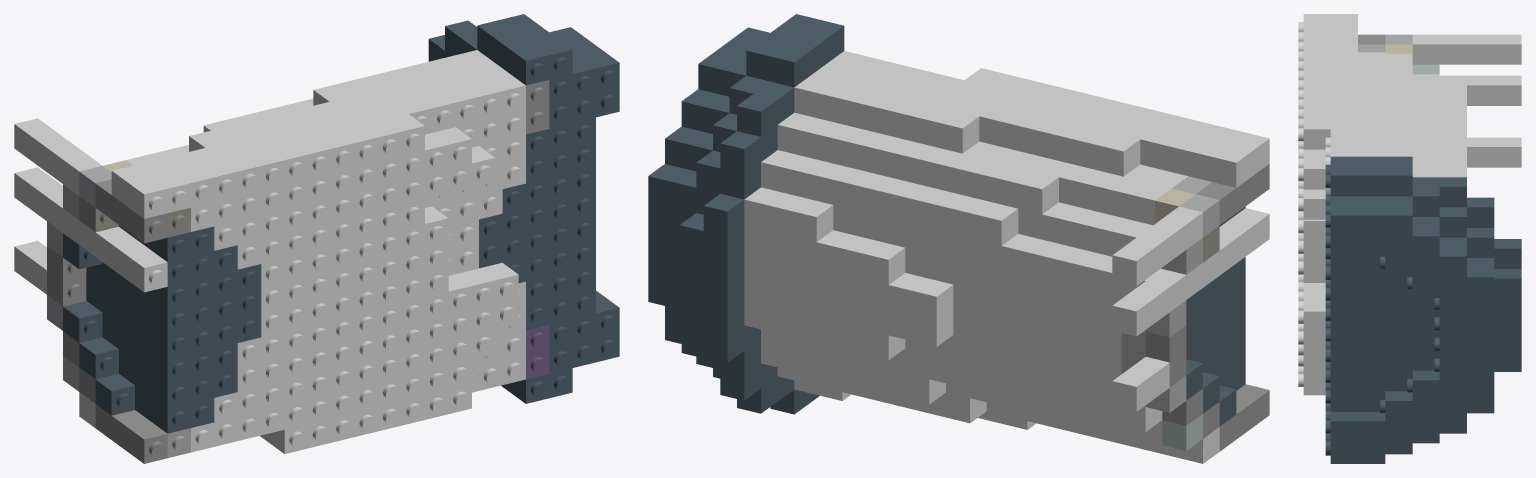
The model's file is full.glb.
3 views of the same model, side by side, from view 1: azimuth 30°, elevation 25°; view 2: azimuth 150°, elevation 25°; view 3: azimuth 270°, elevation 25° (orthographic). The views are drawn at different scales.
Parts seen in each view (by area): view 1: world; view 2: world; view 3: world.
Boxes of the visible parts, x1,y1,x2,y2 form: world: (14, 14, 619, 463); world: (648, 14, 1269, 463); world: (1298, 14, 1521, 463).
Bounding box in the file's own units: 168 × 112 × 78.6.
